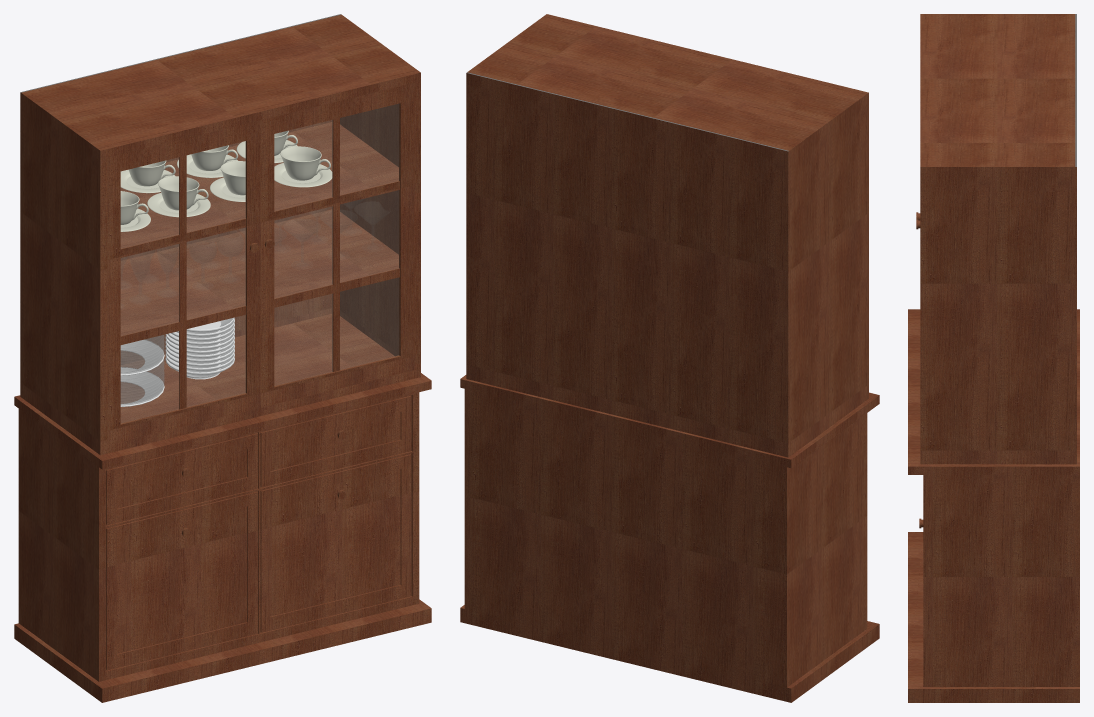
Rendered from cristaleira.glb.
3 renders of one model, left to right at view 1: azimuth 30°, elevation 25°; view 2: azimuth 150°, elevation 25°; view 3: azimuth 270°, elevation 25°, orthographic. The views are drawn at different scales.
Visible parts, largest first — view 1: object 4, object 1, Agrupar#32 (×2), filizanka (×5), Circle01 (×2), object 8, object 2, object 9, object 3; view 2: object 4, object 1; view 3: object 4, object 1.
Boxes of the visible parts, x1,y1,x2,y2 form: object 4: (20, 14, 420, 455); object 1: (14, 373, 431, 702); Agrupar#32 (×2): (107, 83, 414, 444); filizanka (×5): (129, 145, 330, 210); Circle01 (×2): (147, 163, 332, 217); object 8: (120, 359, 164, 403); object 2: (120, 335, 164, 372); object 9: (120, 367, 164, 406); object 3: (120, 339, 164, 375); object 4: (466, 14, 868, 457); object 1: (460, 375, 879, 702); object 4: (920, 14, 1076, 464); object 1: (908, 309, 1079, 702).
Size of the model in its own units: 1.21 by 1.92 by 0.56.
7 materials, 1 textured.
